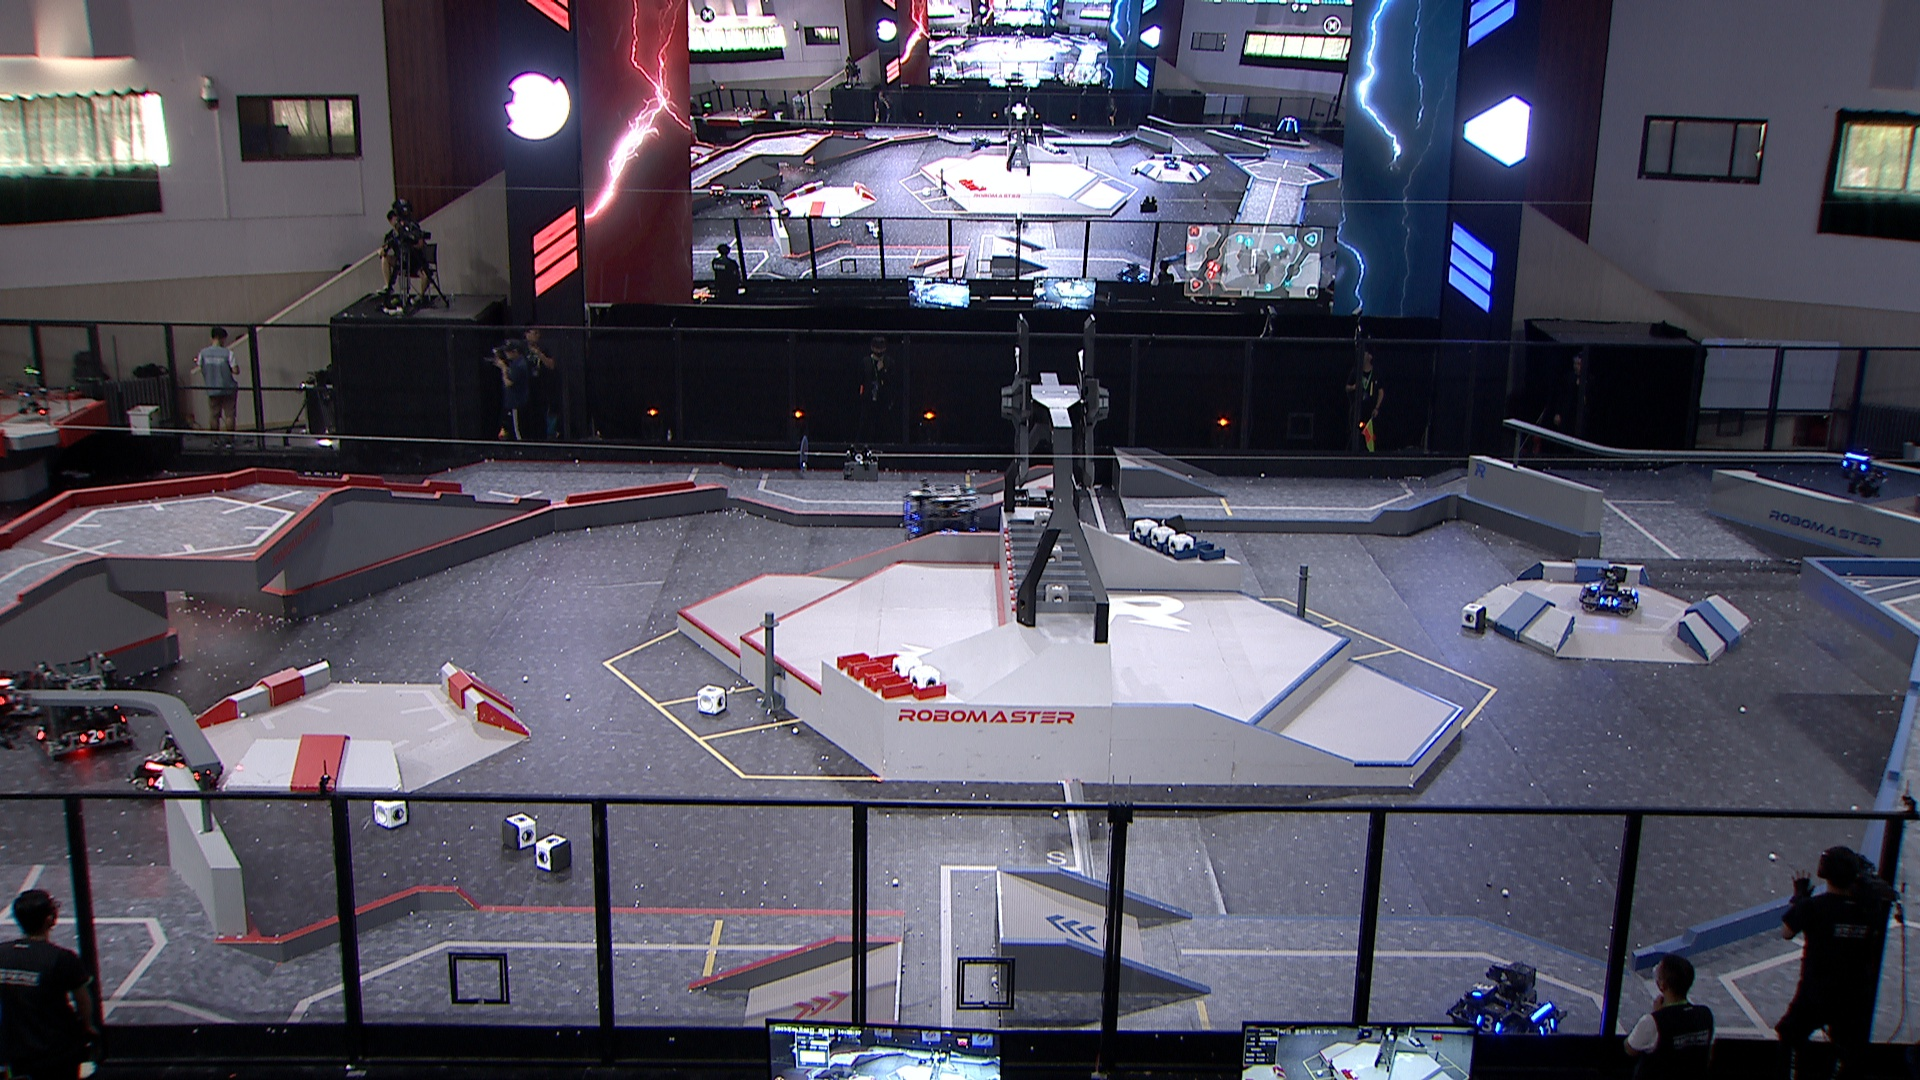armor: (1472, 1015, 1505, 1035), (79, 727, 105, 746), (145, 774, 167, 794), (1598, 593, 1622, 612), (1538, 1015, 1557, 1036), (1472, 982, 1495, 1000), (1841, 458, 1869, 472), (1588, 582, 1604, 593)
car: (26, 651, 138, 756), (1444, 957, 1571, 1048), (128, 725, 224, 800), (994, 487, 1076, 567), (903, 479, 984, 556), (1578, 564, 1642, 616)
ignore: (1269, 116, 1302, 142), (737, 181, 766, 210), (1116, 262, 1149, 285), (711, 182, 731, 200), (972, 133, 989, 153), (1164, 154, 1182, 171), (1230, 121, 1247, 135)
watcher: (1841, 452, 1888, 496)
